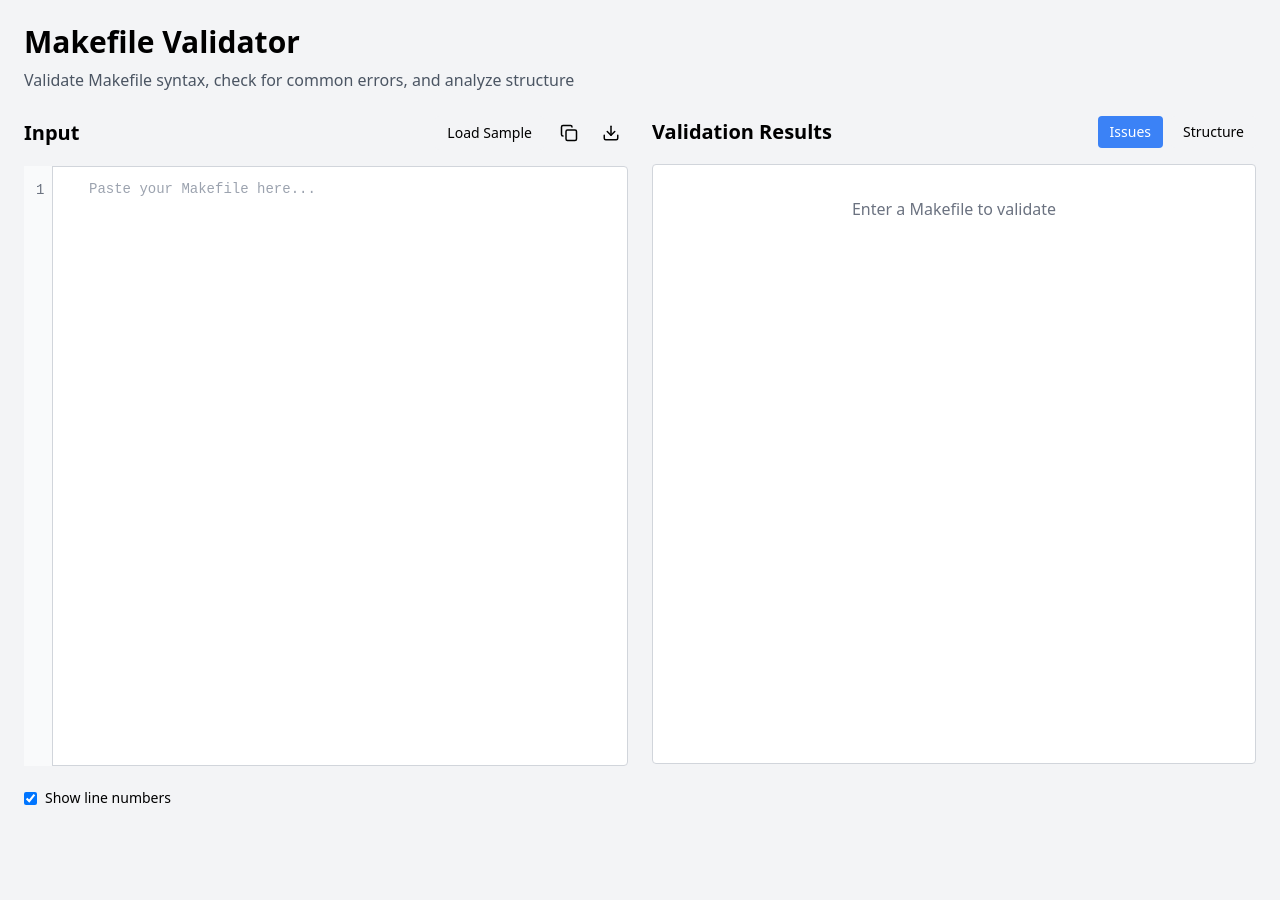
MakefileValidator › Line Numbers › does not render line numbers when checkbox is unchecked
Type "line1 line2" into the text box with placeholder "Paste your Makefile here..." at (326, 466), box 24,166 -> 628,766
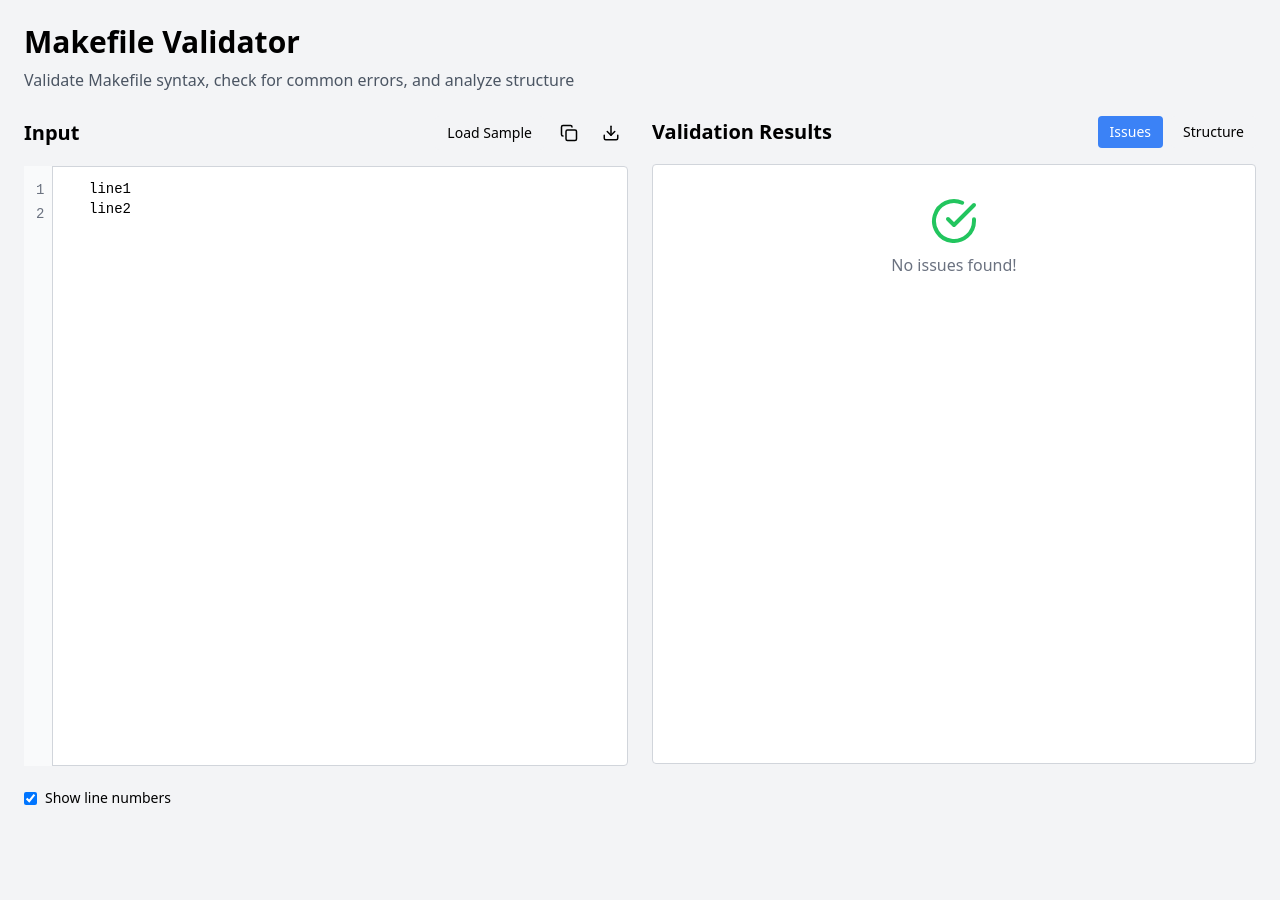
// Uncheck the checkbox
Click the checkbox labelled "Show line numbers" at (30, 798), box 24,792 -> 37,804
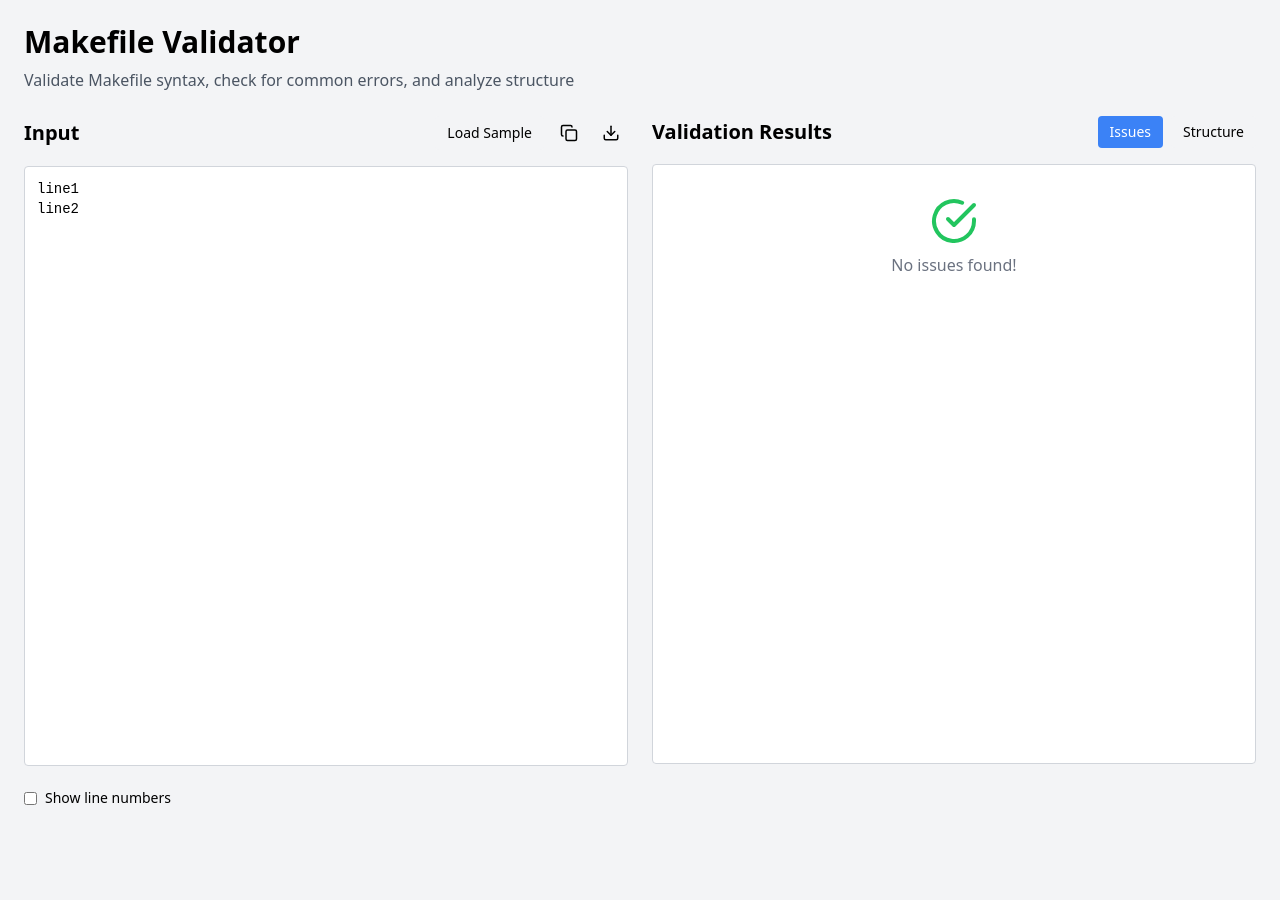
Result: the element with class "absolute" is gone
